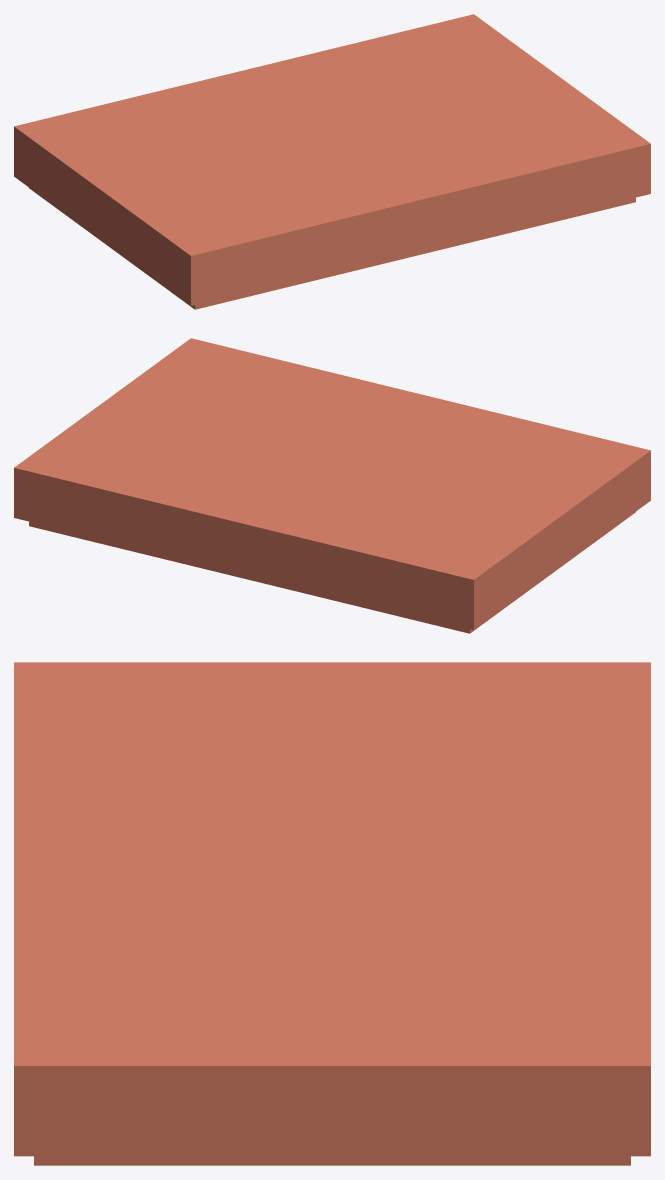
The model's file is 2x3 flat.fbx.
The picture shows the model from 3 angles, top to bottom: view 1: azimuth 30°, elevation 25°; view 2: azimuth 150°, elevation 25°; view 3: azimuth 270°, elevation 25°; orthographic projection. The views are drawn at different scales.
Visible parts, largest first — view 1: [pivoted]; view 2: [pivoted]; view 3: [pivoted].
Boxes of the visible parts, left/top/right/bottom form: [pivoted]: left=14, top=14, right=650, bottom=309; [pivoted]: left=14, top=338, right=650, bottom=633; [pivoted]: left=14, top=662, right=650, bottom=1165.
Size of the model in its own units: 2.4 by 0.3 by 1.6.
